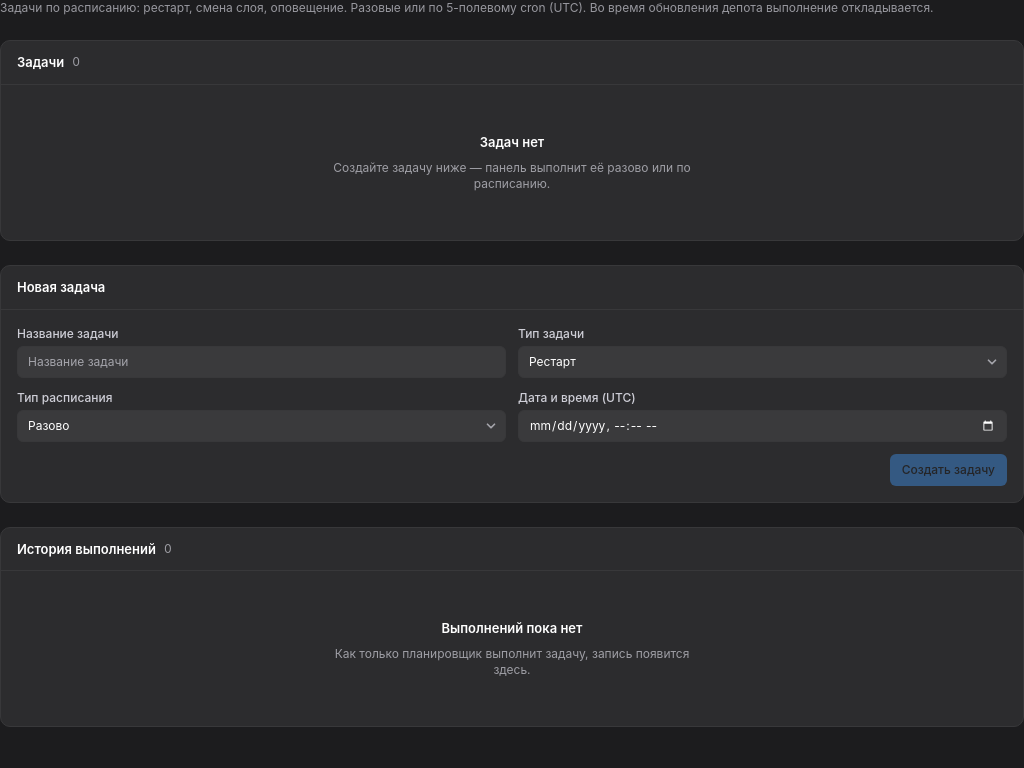
Test: SchedulePage › MSG-4 (#187): broadcast rotation, fan-out, and 5-minute floor › renders the template picker only for the broadcast task type
Expected: the list with test id "scheduled-tasks-list" is shown, [333,134,691,191]
Select "Оповещение" in the dropdown labelled "Тип задачи" at (762, 362), box [518,346,1007,378]
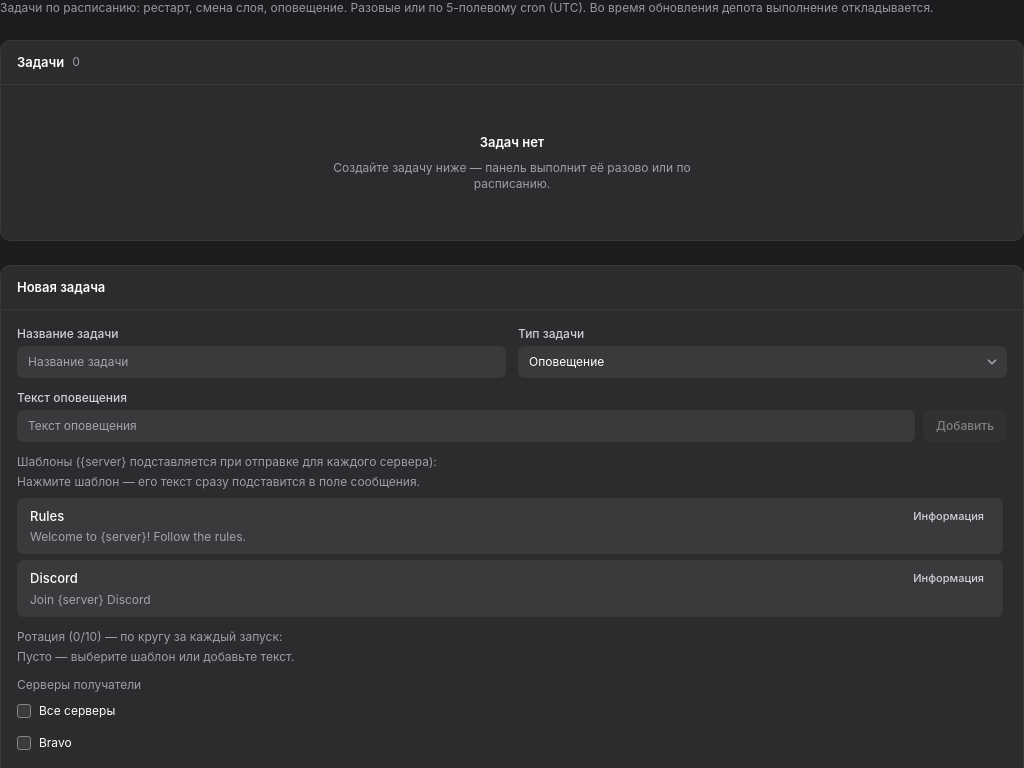
Result: the text "Rules" is shown at [30,506,64,525]
Result: the text "Discord" is shown at [30,569,78,588]
